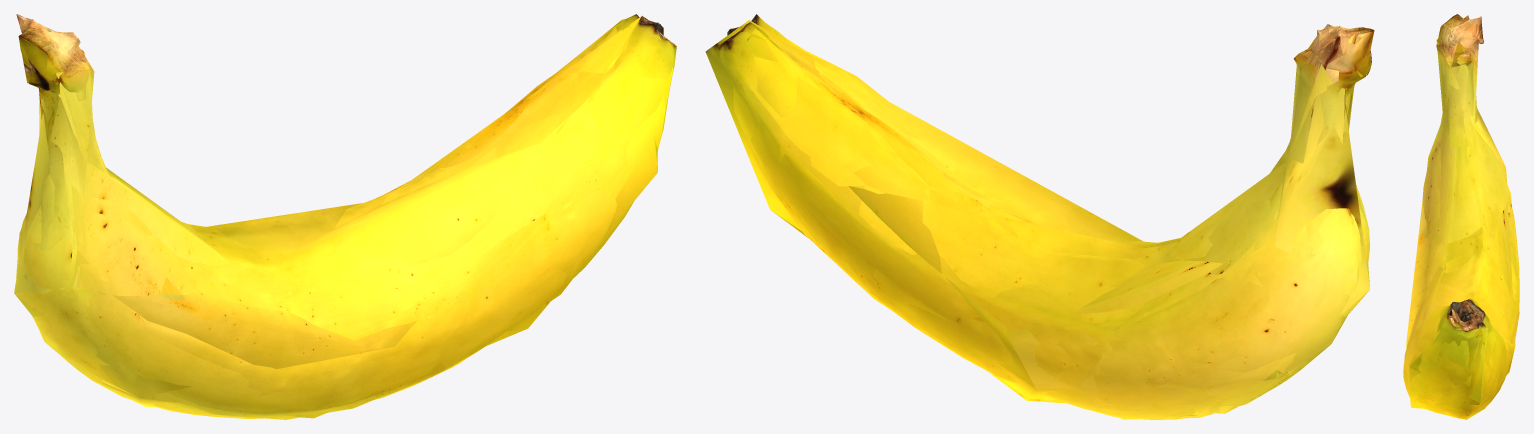
Rendered from banana-v1-transformed.glb.
The picture shows the model from 3 angles, left to right: view 1: azimuth 30°, elevation 25°; view 2: azimuth 150°, elevation 25°; view 3: azimuth 270°, elevation 25°; orthographic projection. The views are drawn at different scales.
Parts seen in each view (by area): view 1: banana_high, banana_low, banana_mid; view 2: banana_high, banana_low, banana_mid; view 3: banana_high, banana_low, banana_mid.
Boxes of the visible parts, x1,y1,x2,y2 form: banana_high: (16,14,676,418); banana_low: (14,16,657,418); banana_mid: (16,16,673,419); banana_high: (719,14,1374,419); banana_low: (705,20,1370,413); banana_mid: (719,20,1373,419); banana_high: (1403,14,1519,418); banana_low: (1406,15,1515,408); banana_mid: (1403,14,1519,419).
Size of the model in its own units: 6.81 by 4.5 by 1.62.
Materials: 1 (1 with a texture image).
